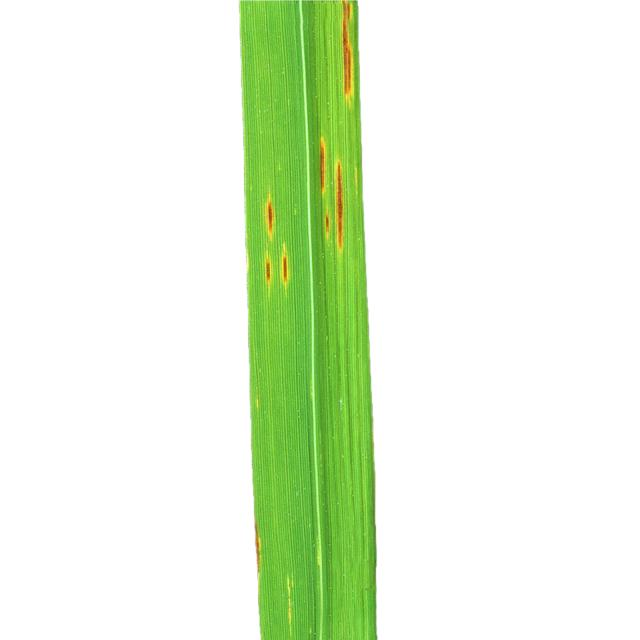Narrow brown: (192, 0, 438, 640)
